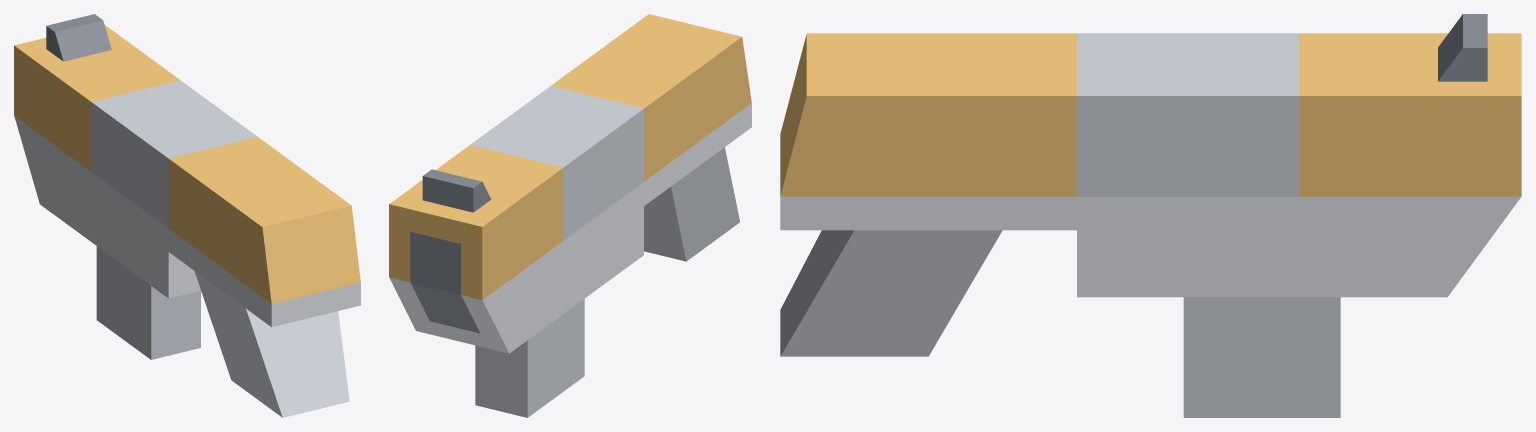
The model's file is laser_rifle.glb.
The picture shows the model from 3 angles, left to right: view 1: azimuth 30°, elevation 25°; view 2: azimuth 150°, elevation 25°; view 3: azimuth 270°, elevation 25°; orthographic projection. The views are drawn at different scales.
Visible parts, largest first — view 1: weapon_rifle; view 2: weapon_rifle; view 3: weapon_rifle.
Boxes of the visible parts, x1,y1,x2,y2 form: weapon_rifle: (14, 14, 360, 417); weapon_rifle: (389, 14, 751, 417); weapon_rifle: (780, 14, 1521, 417).
Bounding box in the file's own units: 0.1 × 0.275 × 0.5.
